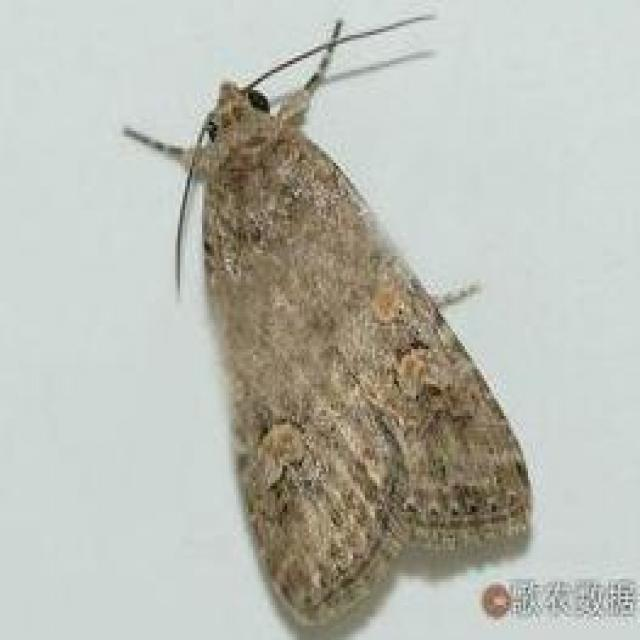armyworm: (107, 8, 568, 640)
